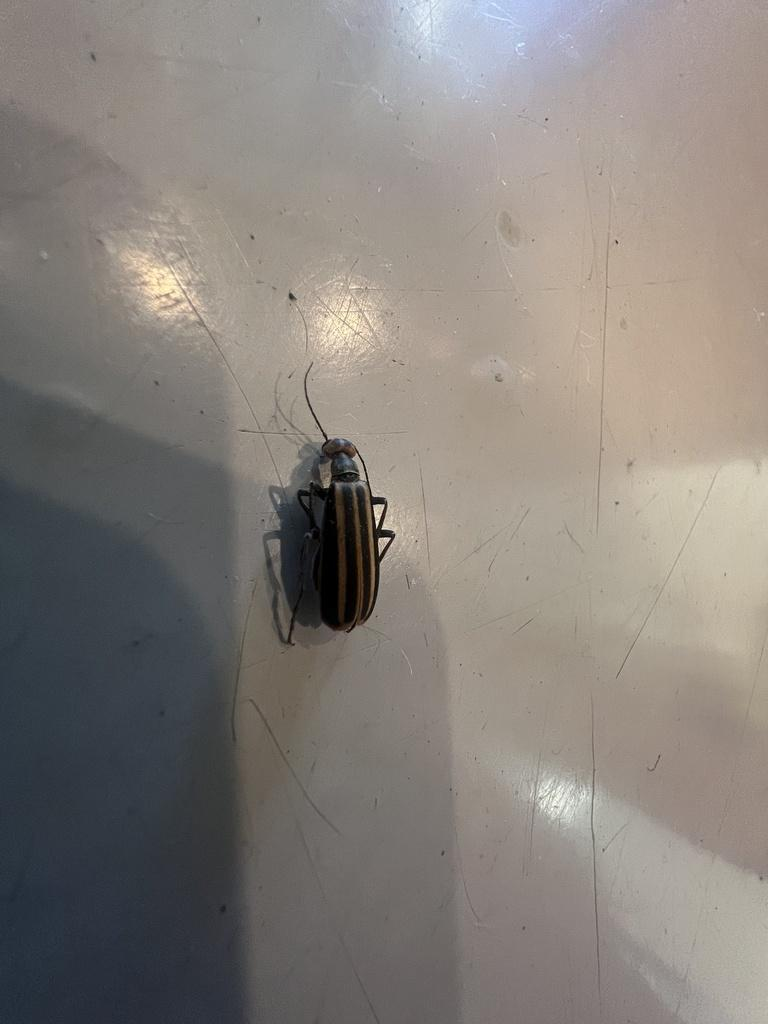blister_beetle: (221, 321, 508, 719)
